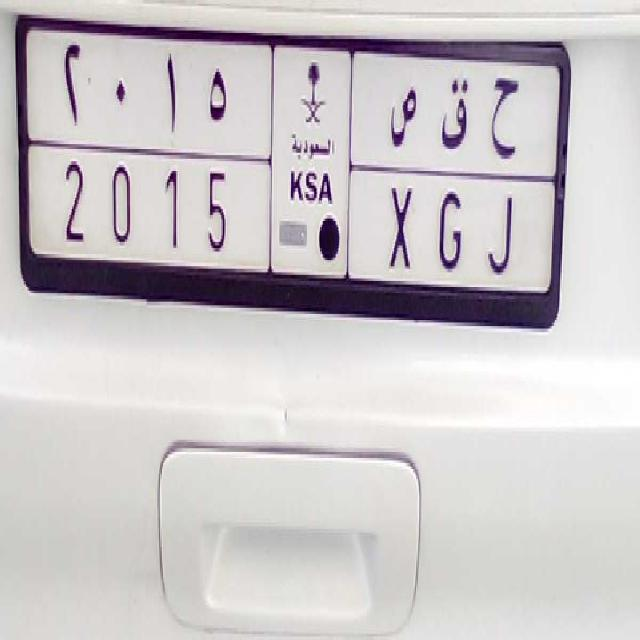license_plate: (45, 145, 522, 295)
